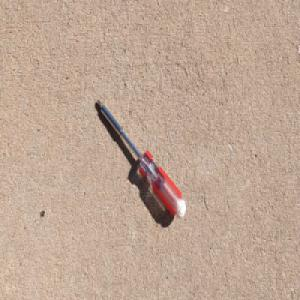Screwdriver: (94, 95, 186, 221)
